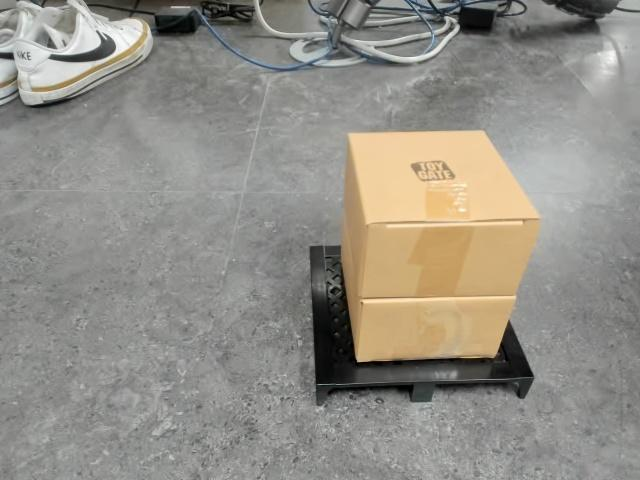box: (307, 129, 541, 406)
